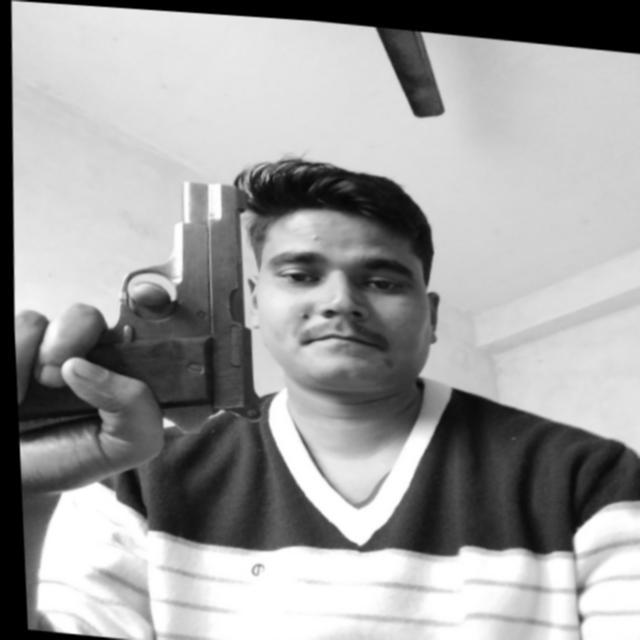weapon: (6, 155, 276, 468)
